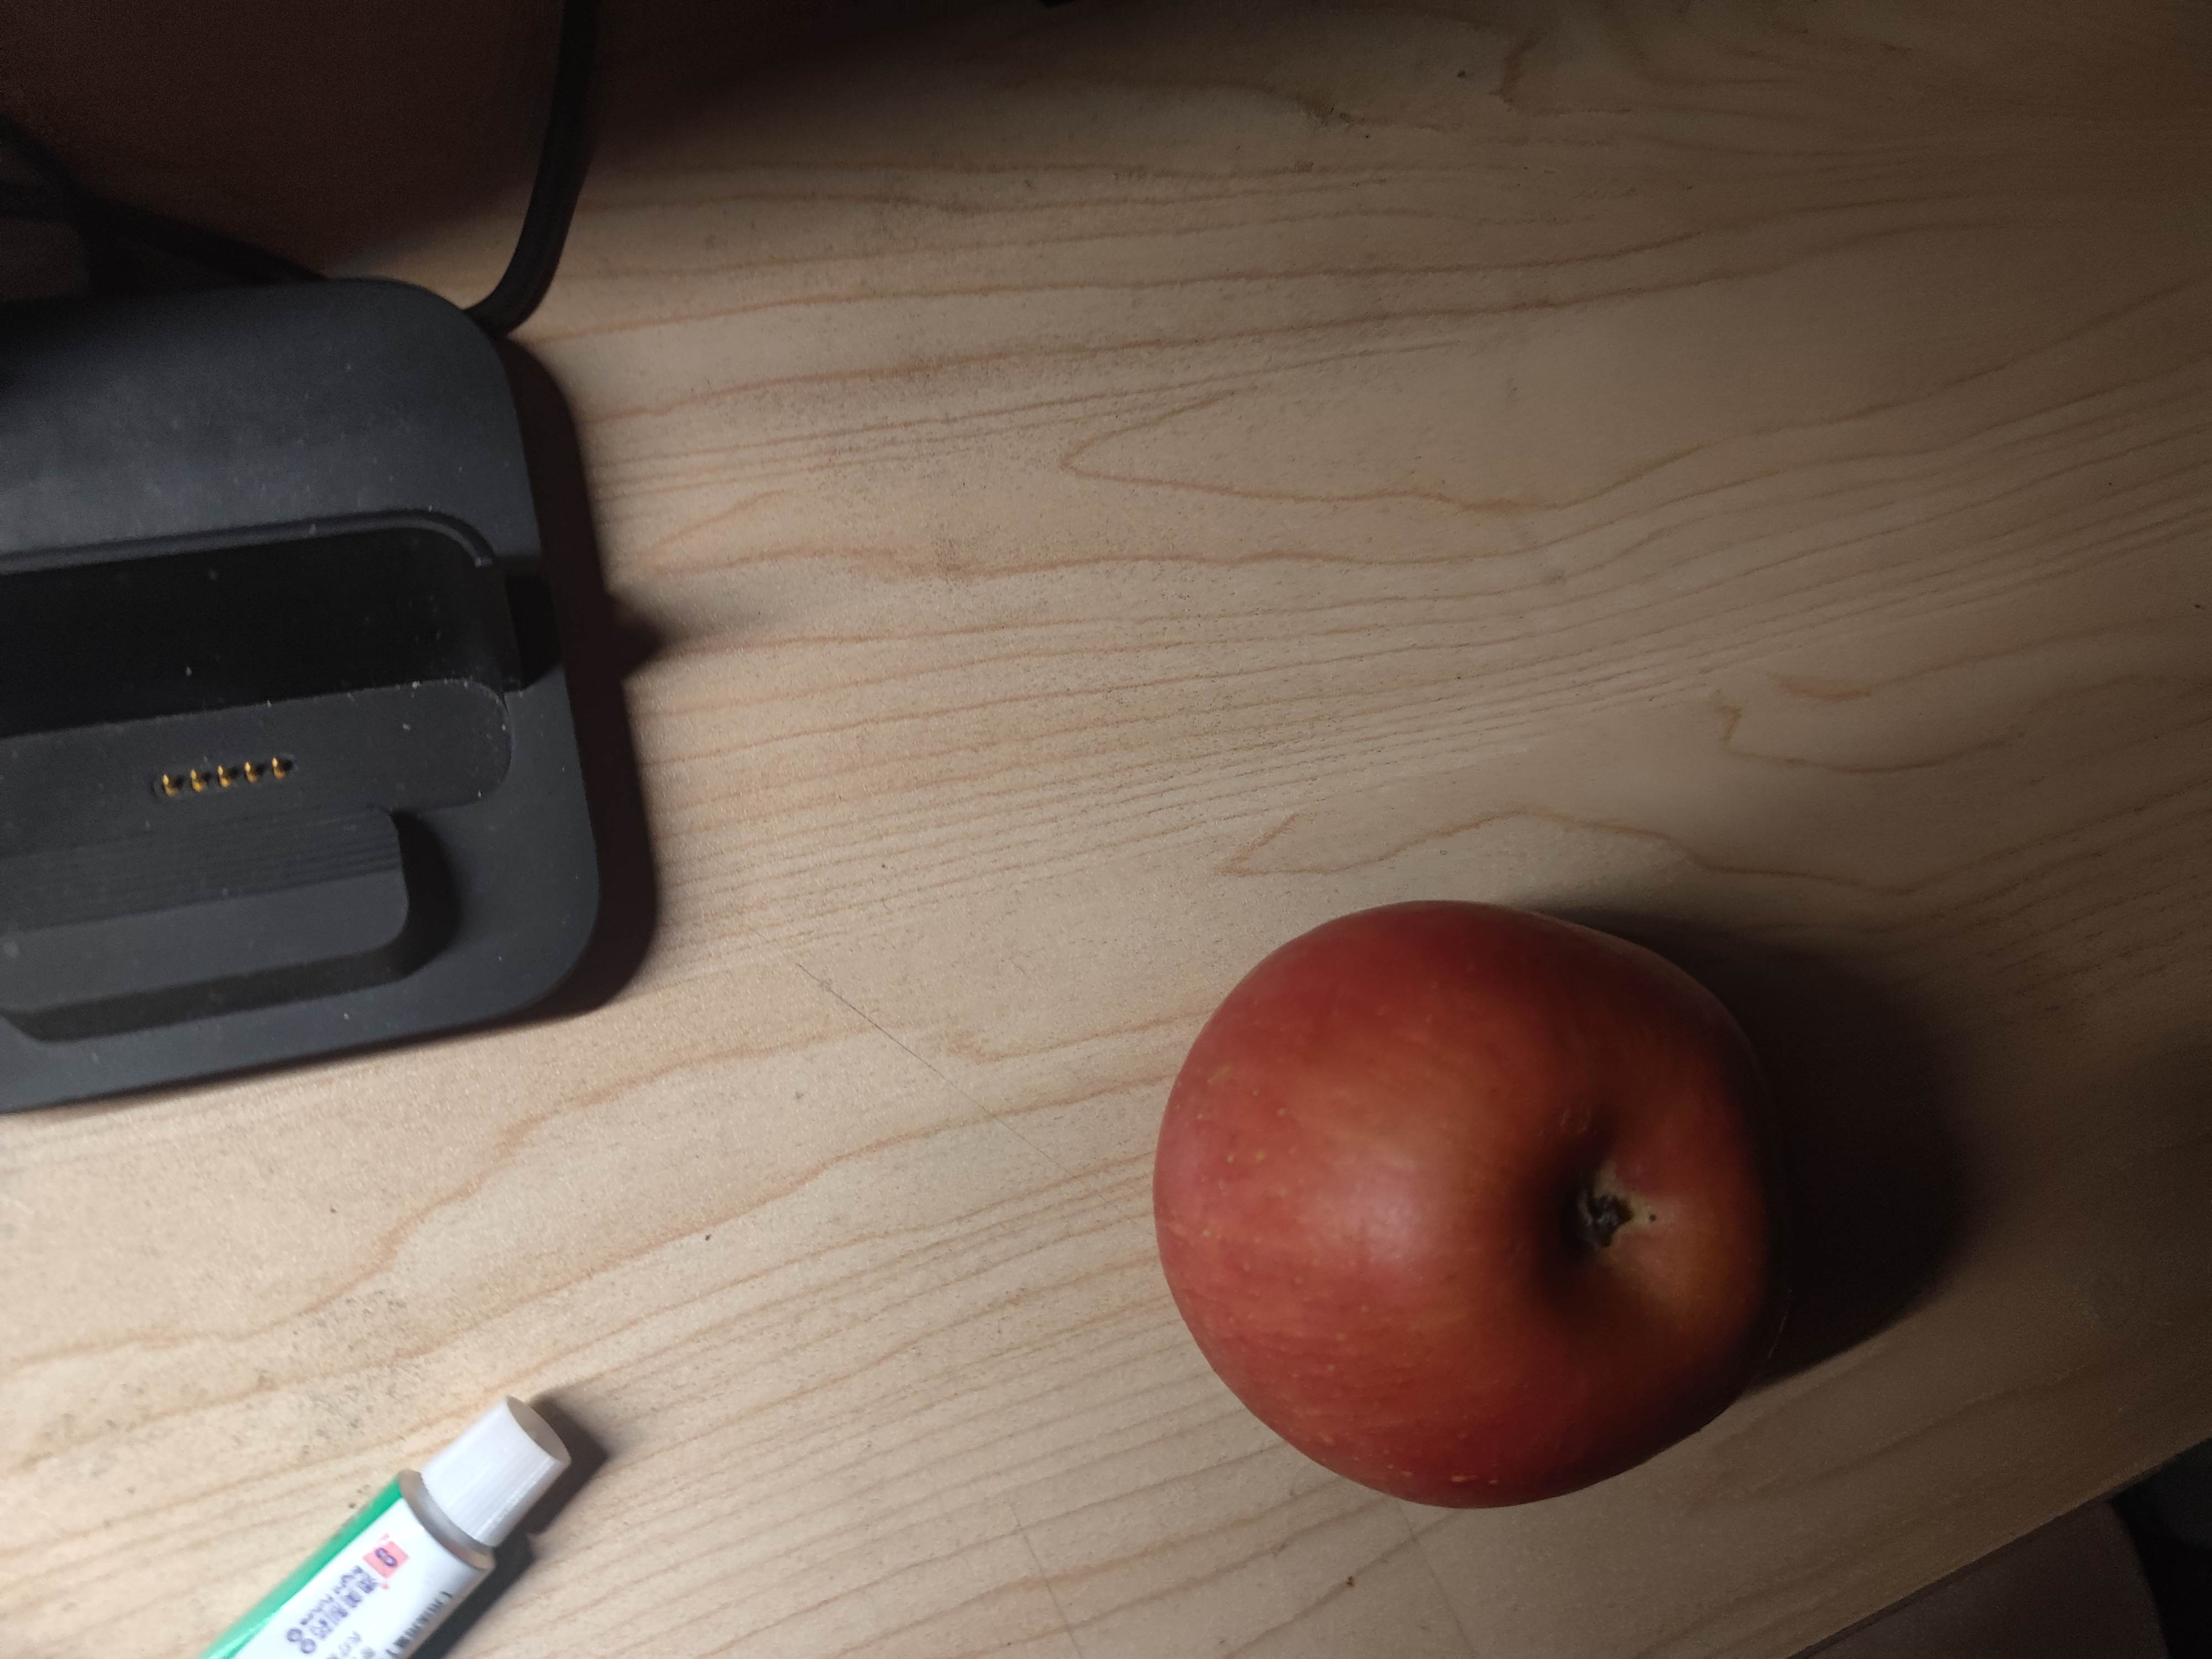apple: (1155, 890, 1768, 1513)
